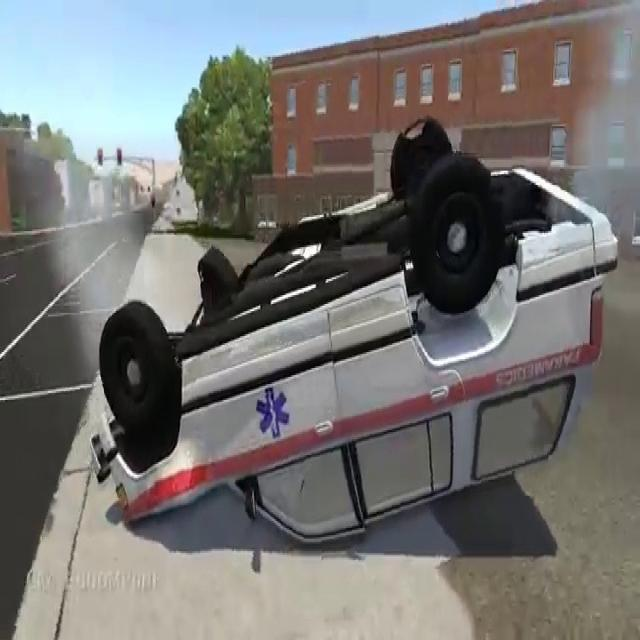severe: (82, 105, 622, 559)
